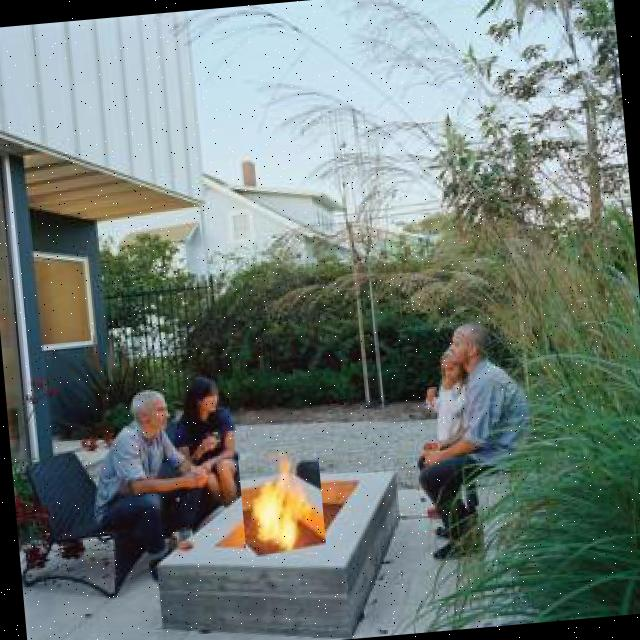fire: (238, 452, 326, 558)
